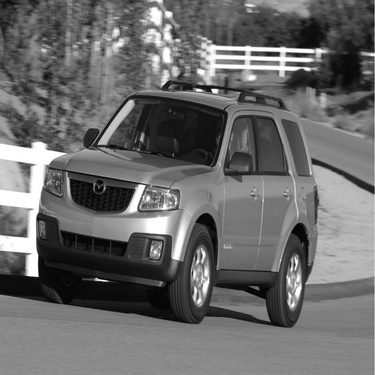car: (22, 64, 322, 329)
